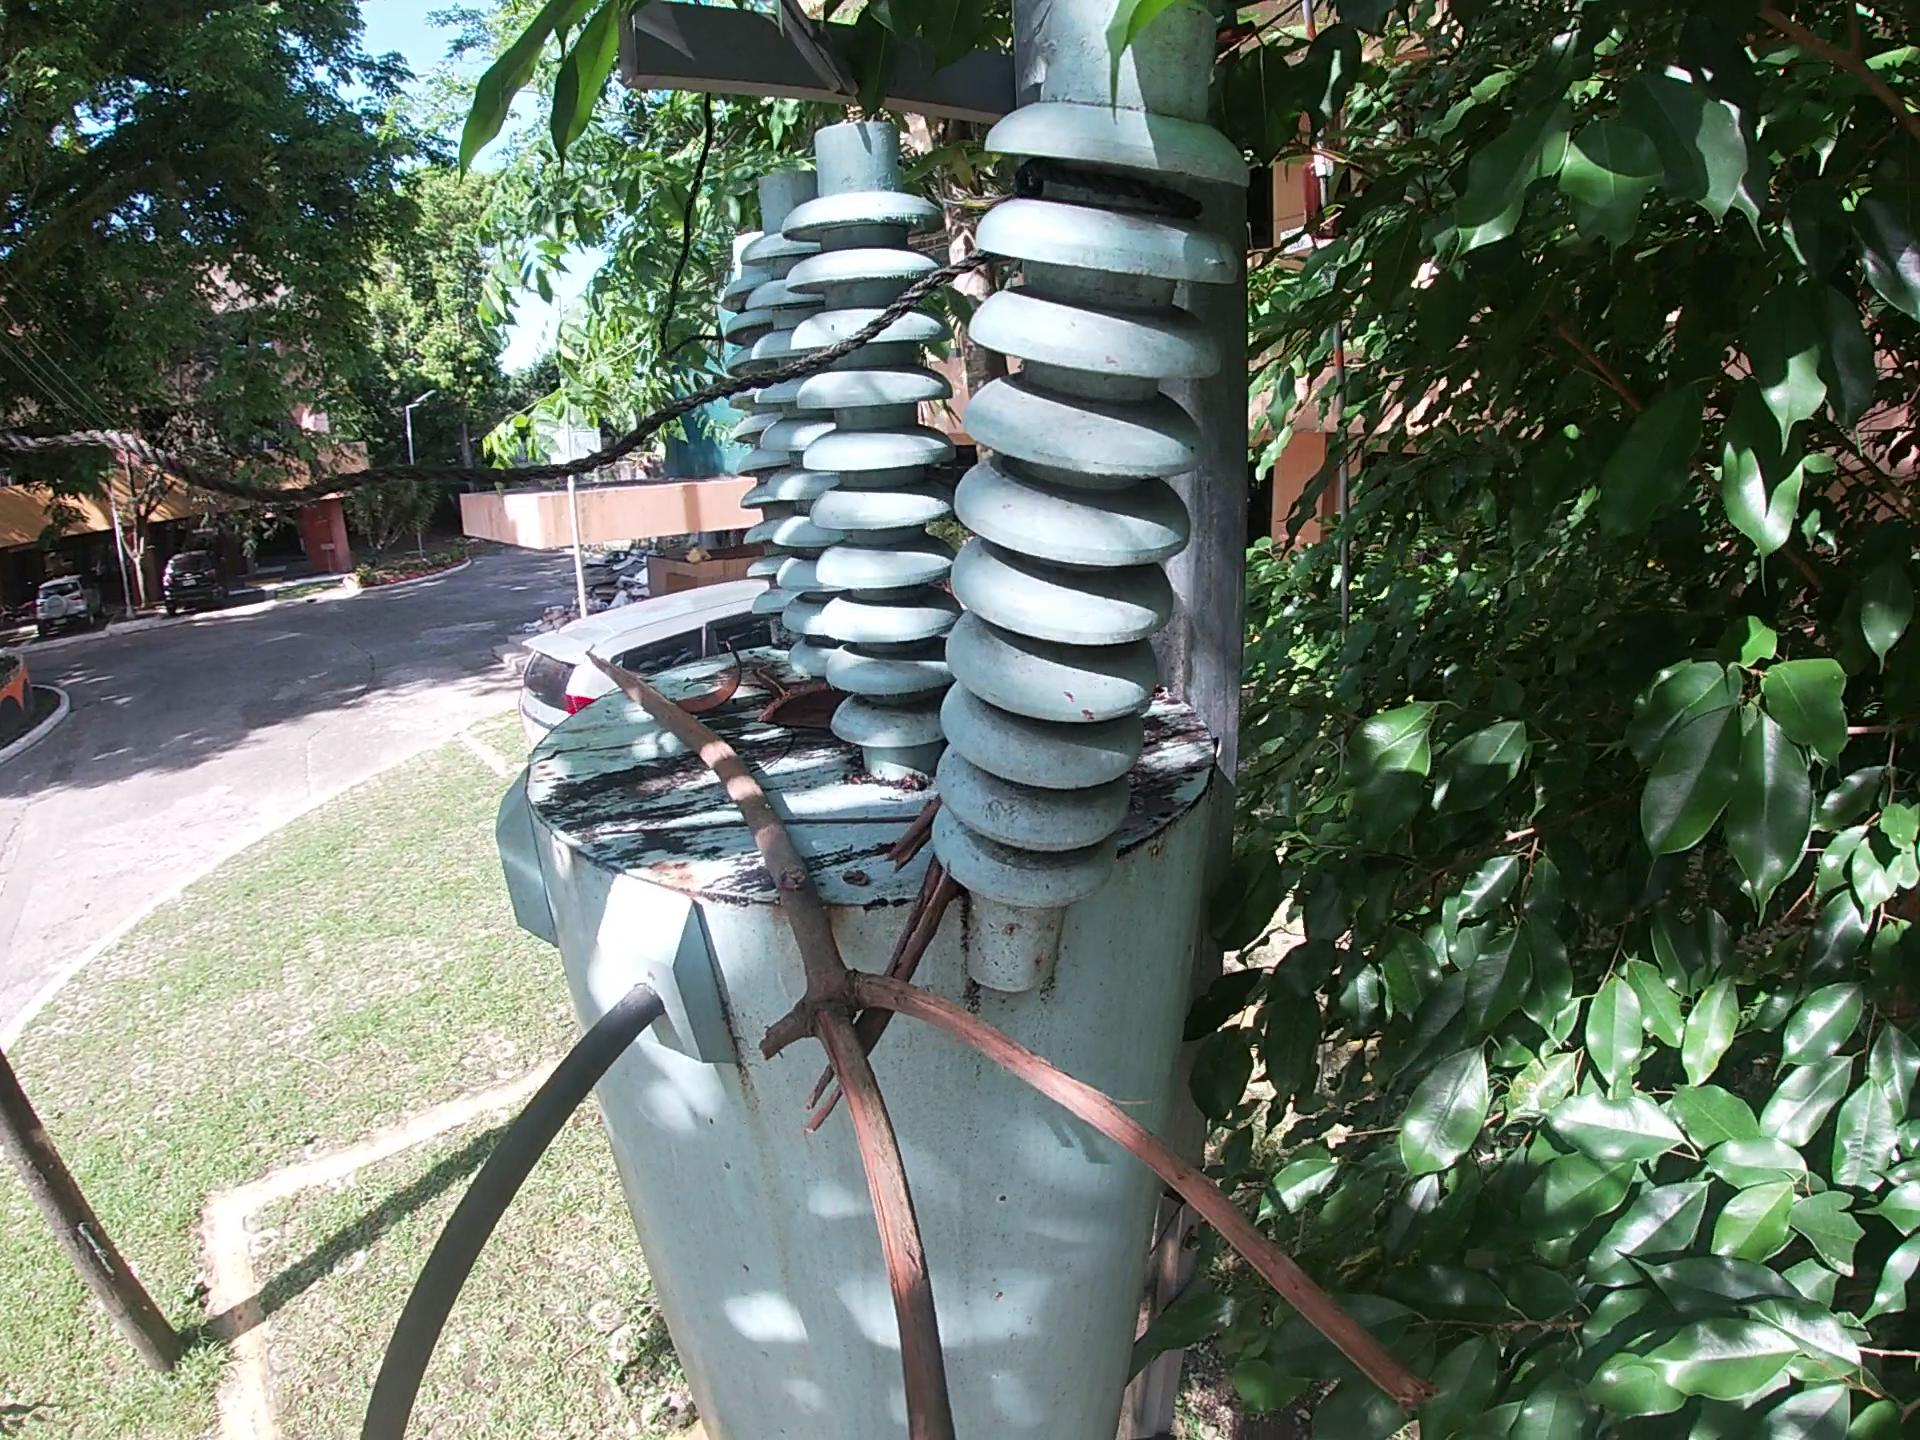mahogany fruit: (667, 638, 753, 722), (748, 678, 856, 744)
tree branch: (573, 644, 1438, 1438), (794, 796, 974, 1134)
